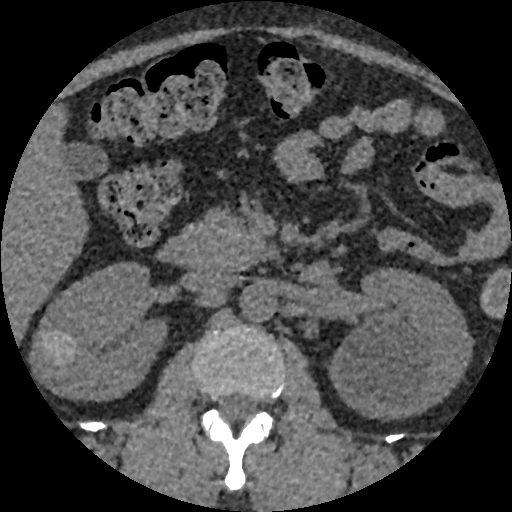Lesion: (30, 325, 81, 369)
